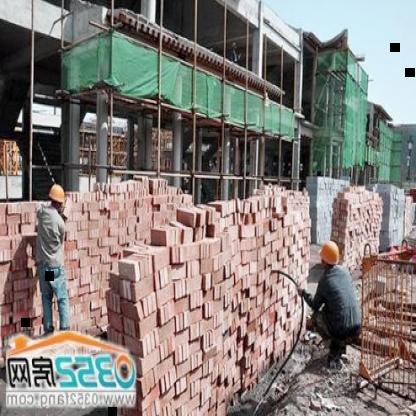helmet: (317, 234, 342, 268), (42, 178, 67, 208)
